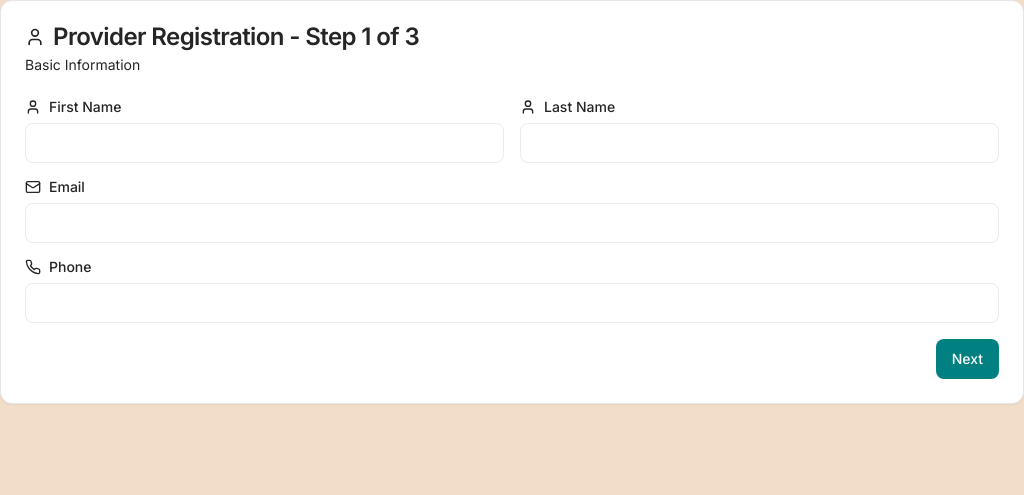
it: ProviderRegistrationForm › Form Validation - Step 1 (Basic Information) › should show validation errors for empty required fields
Click the button "Next" at (967, 359), box [936,339,999,379]
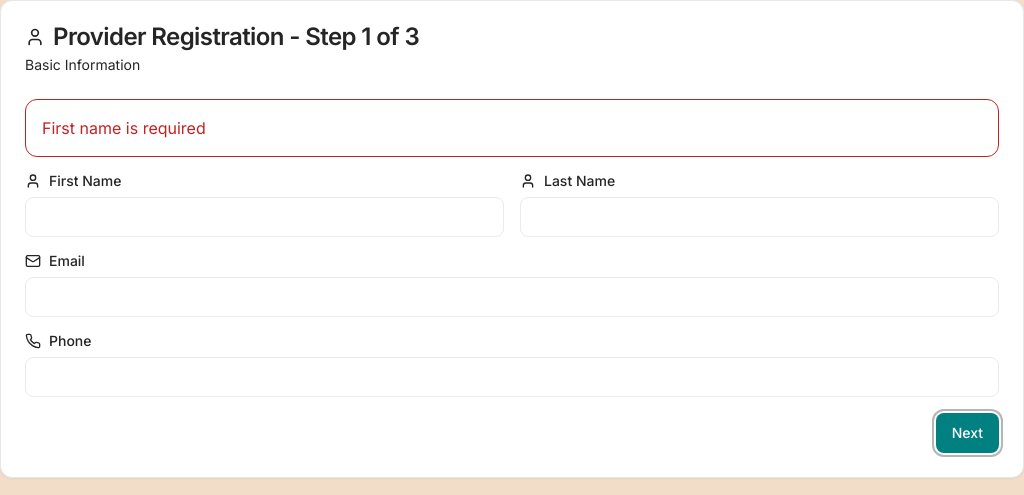
Check: the text "First name is required" is shown, box [25,99,999,157]
